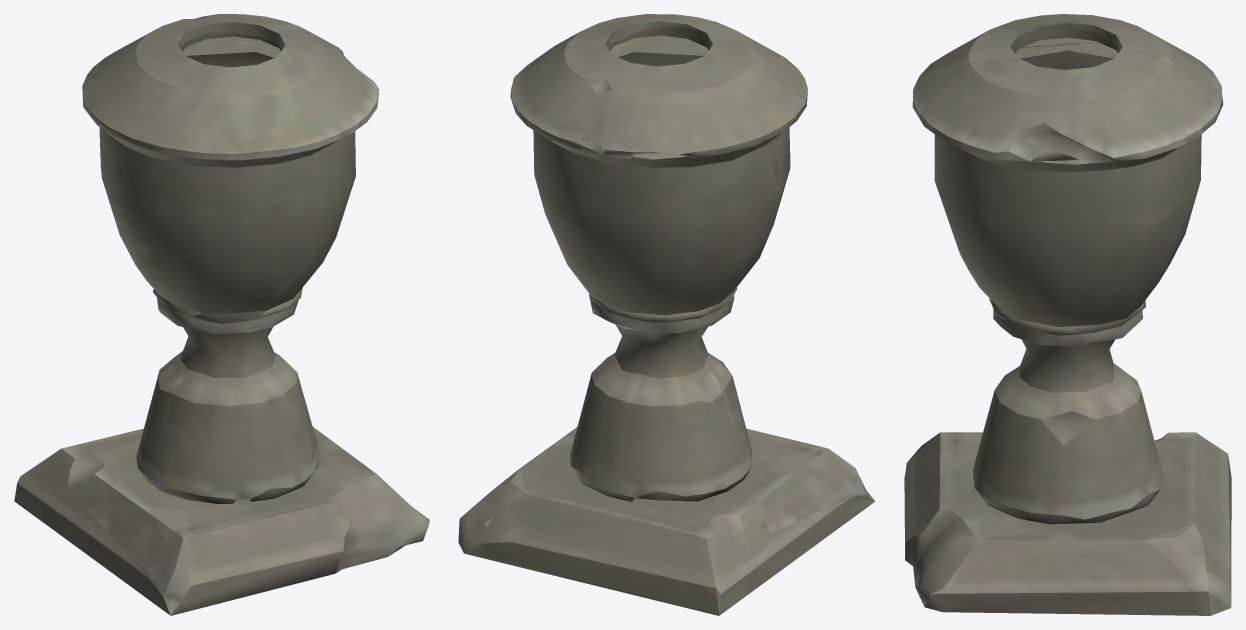
The model's file is stair_urn002.fbx.
3 renders of one model, left to right at view 1: azimuth 30°, elevation 25°; view 2: azimuth 150°, elevation 25°; view 3: azimuth 270°, elevation 25°, orthographic. The views are drawn at different scales.
Parts seen in each view (by area): view 1: stair_urn002; view 2: stair_urn002; view 3: stair_urn002.
Part boxes in pixels (<box>): stair_urn002: <box>14,14,429,615</box>; stair_urn002: <box>458,14,875,615</box>; stair_urn002: <box>904,14,1231,615</box>.
Size of the model in its own units: 5844 by 9909 by 5850.
